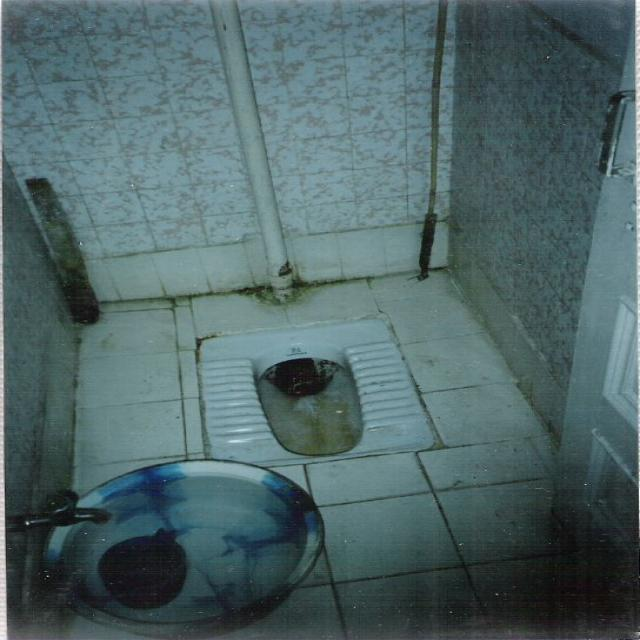dirty_floor: (64, 265, 634, 637), (3, 1, 450, 271)
